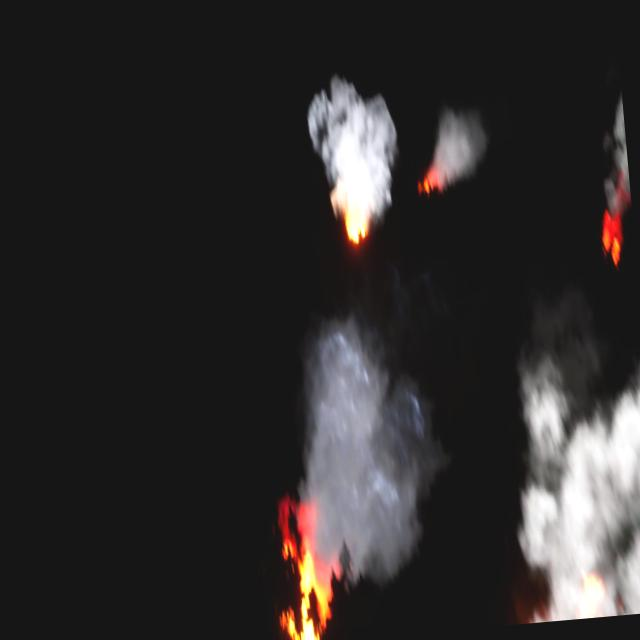fire: (270, 497, 340, 640), (597, 178, 632, 256), (574, 565, 612, 618), (342, 192, 370, 246), (416, 165, 439, 196)
smoke: (288, 309, 447, 593), (499, 335, 640, 622), (302, 74, 403, 212), (425, 106, 489, 182), (592, 98, 630, 210)
